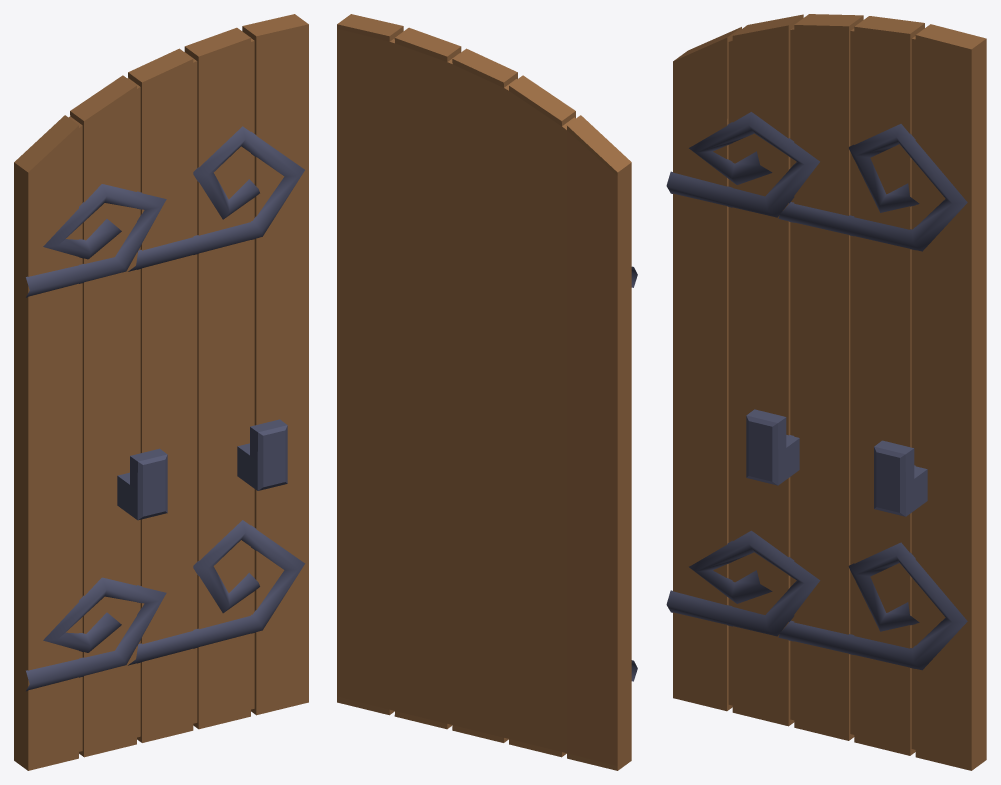
Rendered from DoubleDoorRight.fbx.
The picture shows the model from 3 angles, left to right: view 1: azimuth 30°, elevation 25°; view 2: azimuth 150°, elevation 25°; view 3: azimuth 330°, elevation 25°; orthographic projection. The views are drawn at different scales.
Parts seen in each view (by area): view 1: DoubleDoorRight; view 2: DoubleDoorRight; view 3: DoubleDoorRight.
Part boxes in pixels (x1,y1,x2,y2): DoubleDoorRight: (14,14,308,770); DoubleDoorRight: (337,14,637,770); DoubleDoorRight: (666,14,986,770).
Bounding box in the file's own units: 146 × 336 × 32.2.
